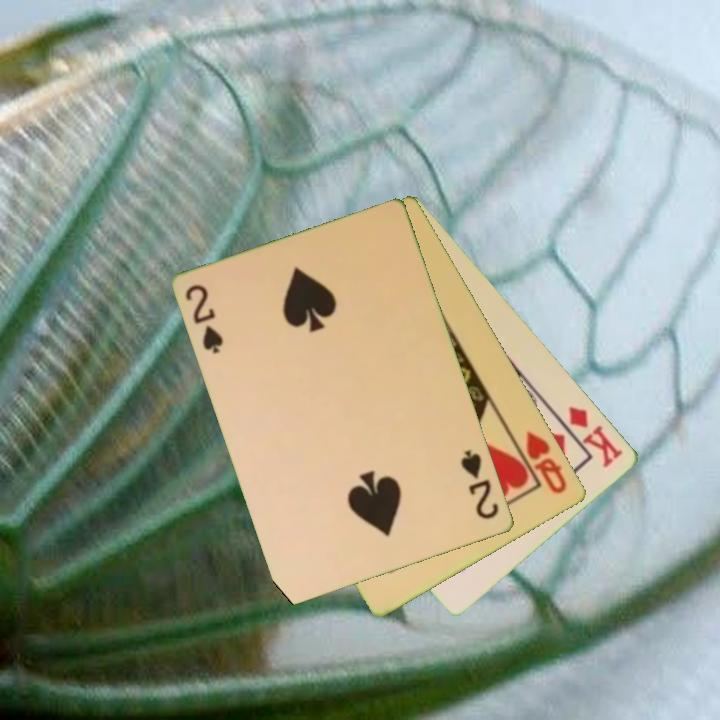2s: (457, 446, 503, 523), (182, 281, 227, 357)
Kd: (565, 402, 627, 471)
Qh: (510, 427, 571, 497)
